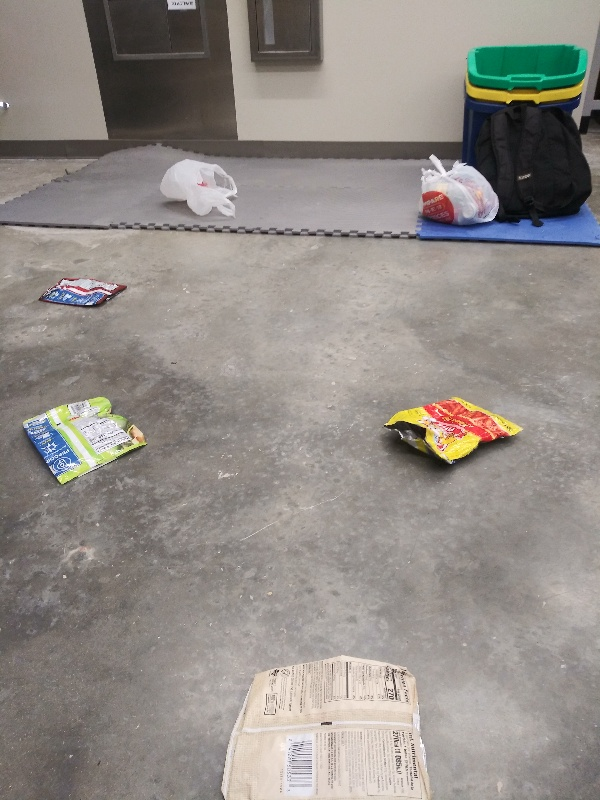bag: (218, 659, 433, 800), (19, 392, 152, 489), (381, 393, 526, 465), (37, 275, 131, 309)
